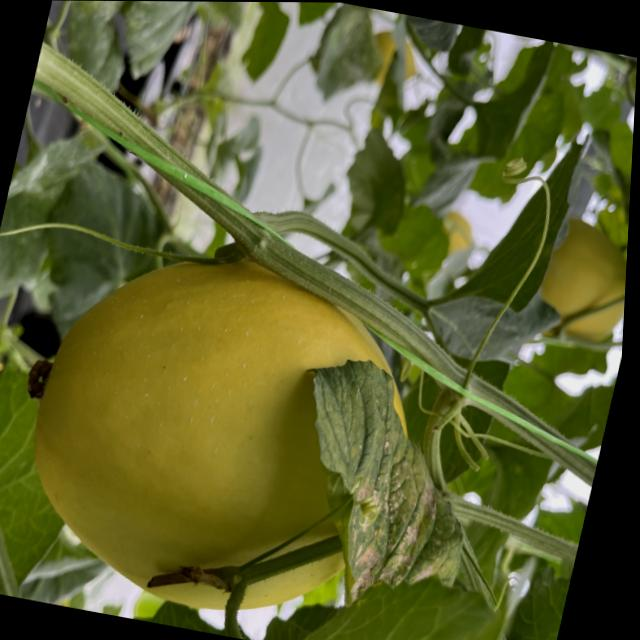downy mildew: (250, 343, 509, 639)
